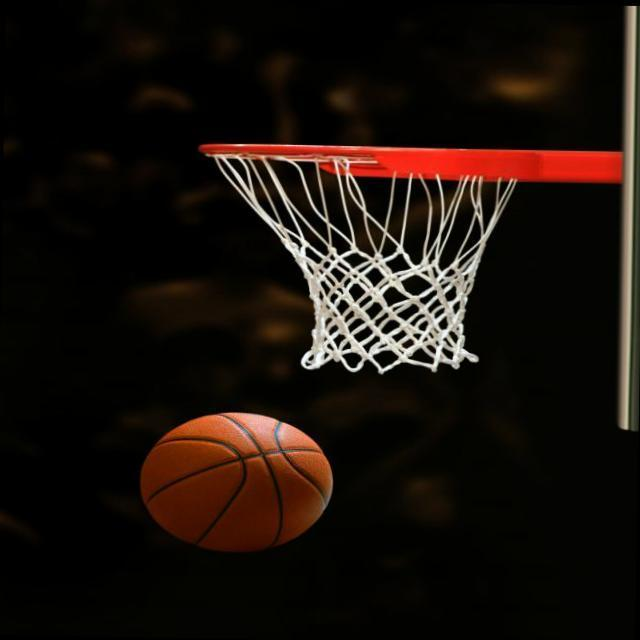ball: (137, 410, 336, 556)
